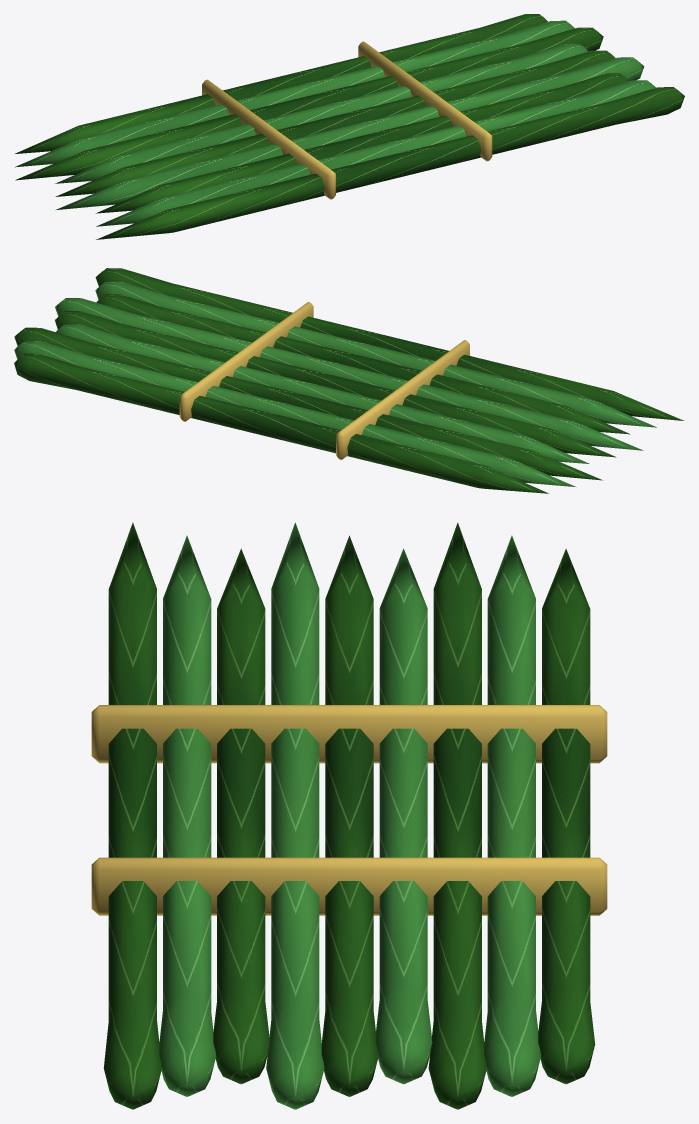
File: veg_asparagus_bundle.glb
3 renders of one model, top to bottom at view 1: azimuth 30°, elevation 25°; view 2: azimuth 150°, elevation 25°; view 3: azimuth 270°, elevation 25°, orthographic. The views are drawn at different scales.
Parts seen in each view (by area): view 1: veg_asparagus_bundle; view 2: veg_asparagus_bundle; view 3: veg_asparagus_bundle.
Part boxes in pixels (left/top/right/bottom): veg_asparagus_bundle: left=15, top=14, right=684, bottom=239; veg_asparagus_bundle: left=14, top=268, right=683, bottom=493; veg_asparagus_bundle: left=91, top=522, right=607, bottom=1109.
Size of the model in its own units: 0.264 by 0.014 by 0.1.
3 materials, 2 textured.
